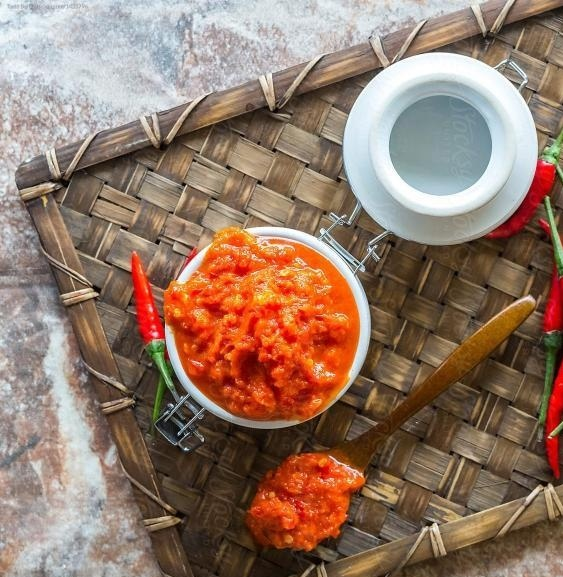sambal: (159, 236, 355, 421), (245, 456, 365, 548)
